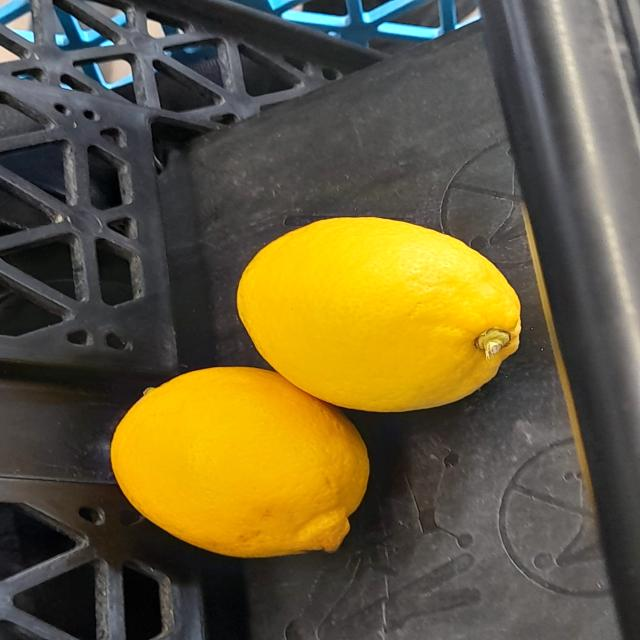lemon: (220, 197, 532, 415), (95, 365, 381, 565)
